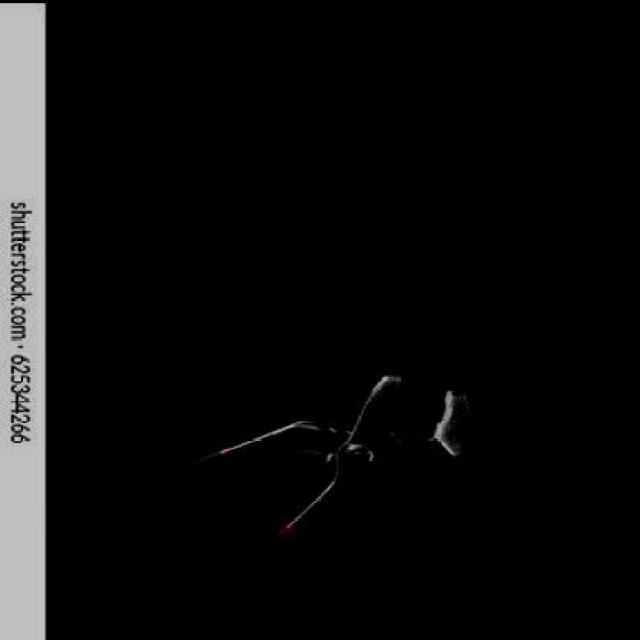pliers: (74, 361, 477, 614)
